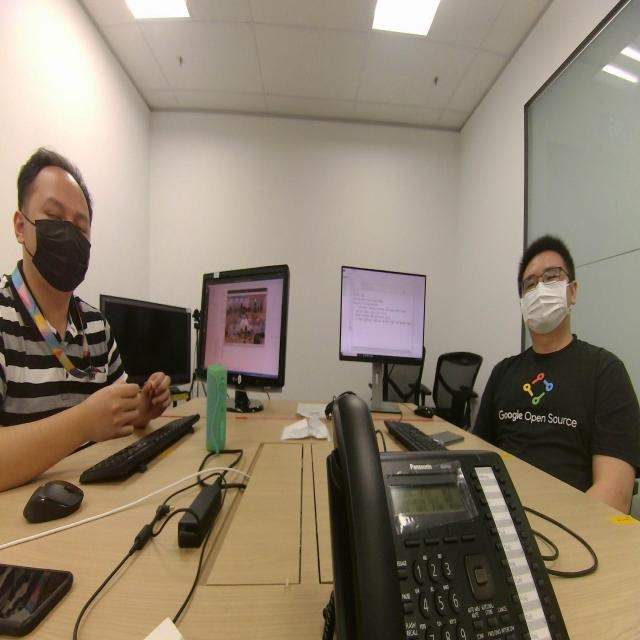obstacle: (496, 195, 593, 442), (14, 117, 97, 401)
